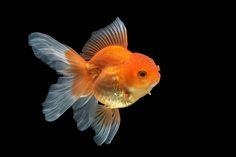goldfish: (35, 23, 168, 127)
